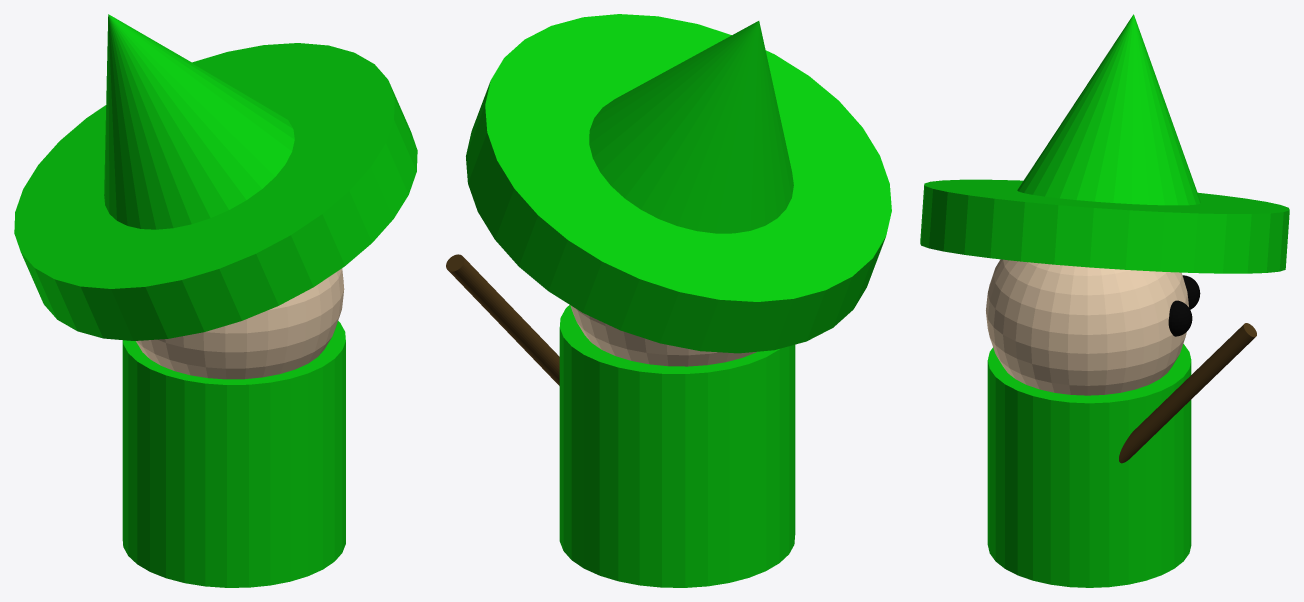
The model's file is wizord_green.glb.
3 renders of one model, left to right at view 1: azimuth 30°, elevation 25°; view 2: azimuth 150°, elevation 25°; view 3: azimuth 270°, elevation 25°, orthographic. The views are drawn at different scales.
Visible parts, largest first — view 1: Cylinder.001, Cylinder, Cone, Sphere; view 2: Cylinder.001, Cylinder, Cone, Sphere, Cylinder.002; view 3: Cylinder, Cylinder.001, Sphere, Cone, Cylinder.002, Sphere.002.
Part boxes in pixels (x1,y1,x2,y2): Cylinder.001: (14, 43, 417, 340); Cylinder: (122, 321, 345, 587); Cone: (104, 14, 294, 229); Sphere: (136, 268, 344, 379); Cylinder.001: (466, 14, 891, 353); Cylinder: (559, 305, 795, 587); Cone: (589, 21, 793, 233); Sphere: (570, 305, 756, 366); Cylinder.002: (446, 254, 559, 385); Cylinder: (987, 344, 1191, 587); Cylinder.001: (920, 179, 1289, 273); Sphere: (986, 259, 1188, 395); Cone: (1017, 14, 1200, 205); Cylinder.002: (1119, 323, 1256, 463); Sphere.002: (1168, 300, 1192, 336).
Bounding box in the file's own units: 3.57 × 5.26 × 3.63.
